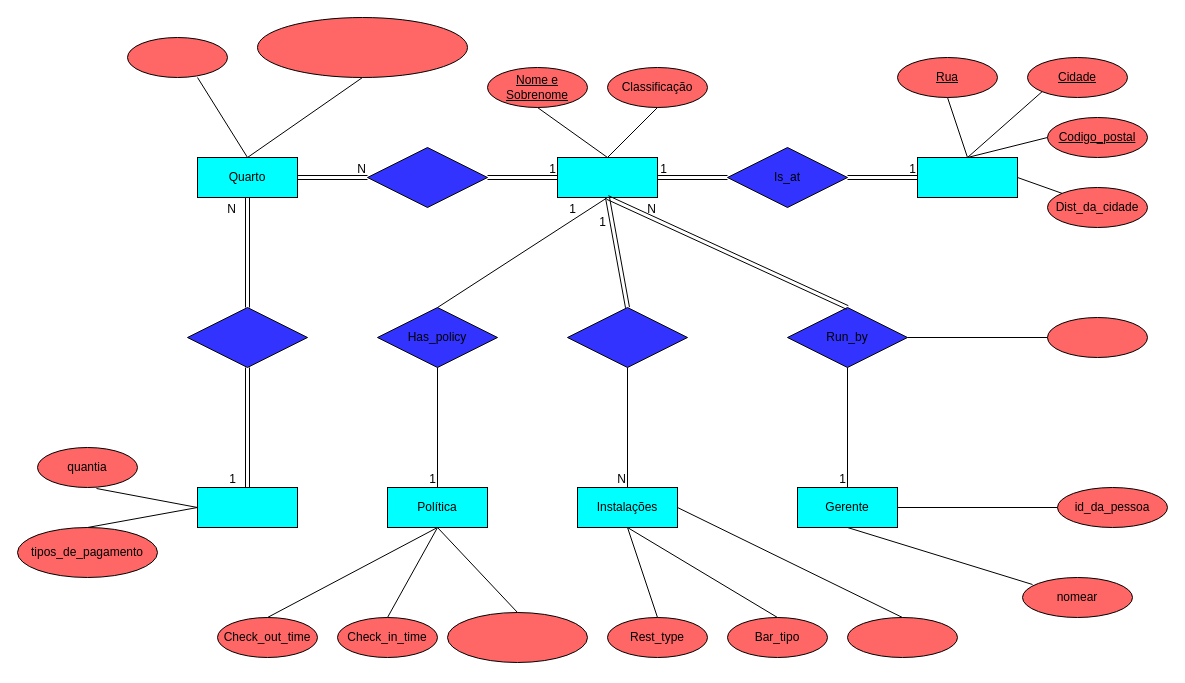
The diagram is 1185 pixels wide and 683 high, and some of its shapes have lost their labels. The box of each missing label's shape, as (x1, y1, x2, y2) in pixels:
Cancelamento_periodo: (446, 612, 588, 662)
Custo: (196, 486, 298, 528)
Custo_por_noite: (186, 306, 308, 368)
Has_facilidades: (566, 306, 688, 368)
Has_room: (366, 146, 488, 208)
Hotel: (556, 156, 658, 198)
Localização: (916, 156, 1018, 198)
Percentagem_de_disponibilidade: (256, 16, 468, 78)
Tipo_de: (126, 36, 228, 78)
Tipo_de_desporto: (846, 616, 958, 658)
uma_vez_que: (1046, 316, 1148, 358)
